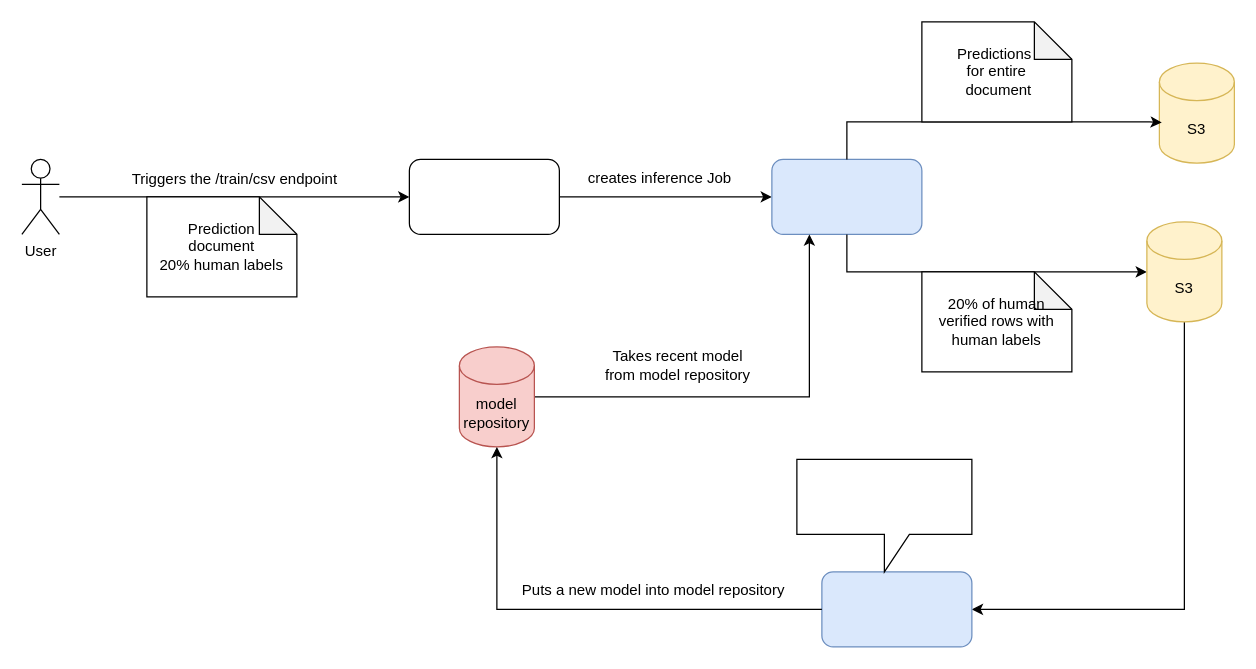
The diagram is 1256 pixels wide and 669 high, and some of its shapes have lost their labels. Here are the shapes that lost their labels. From the top down, the centre of each, then its label:
At pixel 483 196: "REST API".
At pixel 846 196: "Inference Job".
At pixel 884 515: "Scheduled for each 7 days, to get dataset from s3 and retrain a model".
At pixel 896 609: "Retraining job".
